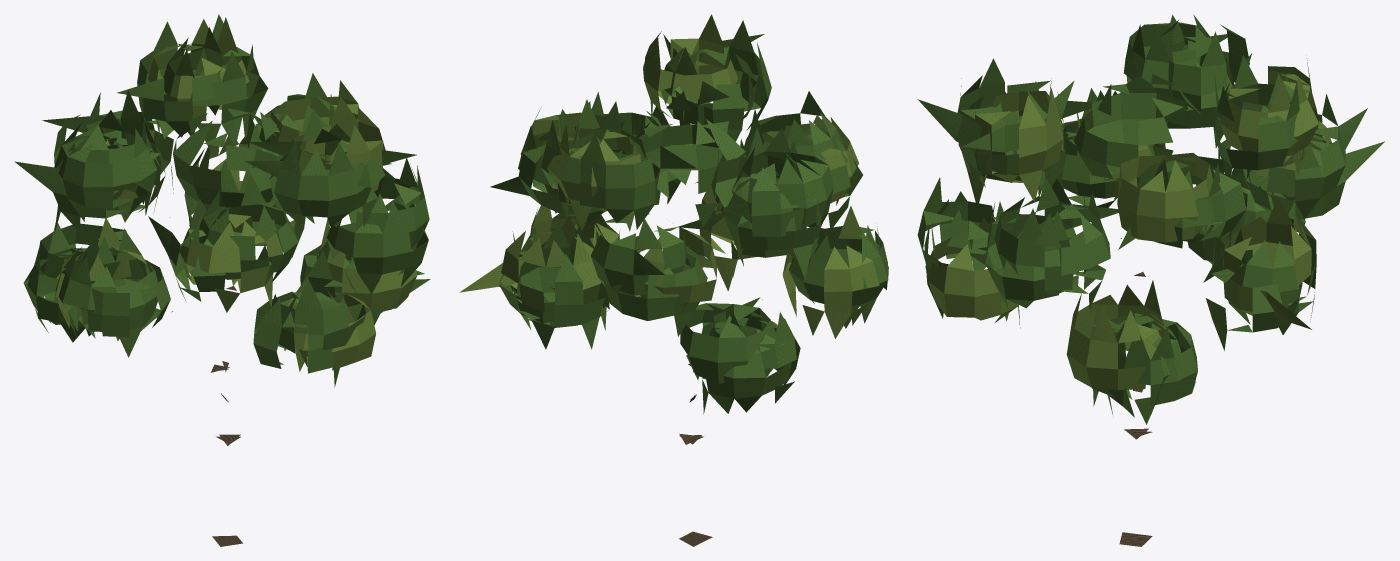
3 views of the same model, side by side, from view 1: azimuth 30°, elevation 25°; view 2: azimuth 150°, elevation 25°; view 3: azimuth 270°, elevation 25° (orthographic). The views are drawn at different scales.
Parts seen in each view (by area): view 1: broadleaf; view 2: broadleaf; view 3: broadleaf.
Part boxes in pixels (bbox=[...]): broadleaf: bbox=[14, 14, 430, 546]; broadleaf: bbox=[459, 14, 888, 546]; broadleaf: bbox=[917, 14, 1384, 546].
Size of the model in its own units: 11.66 by 13.29 by 11.37.
Materials: 3 (3 with a texture image).
